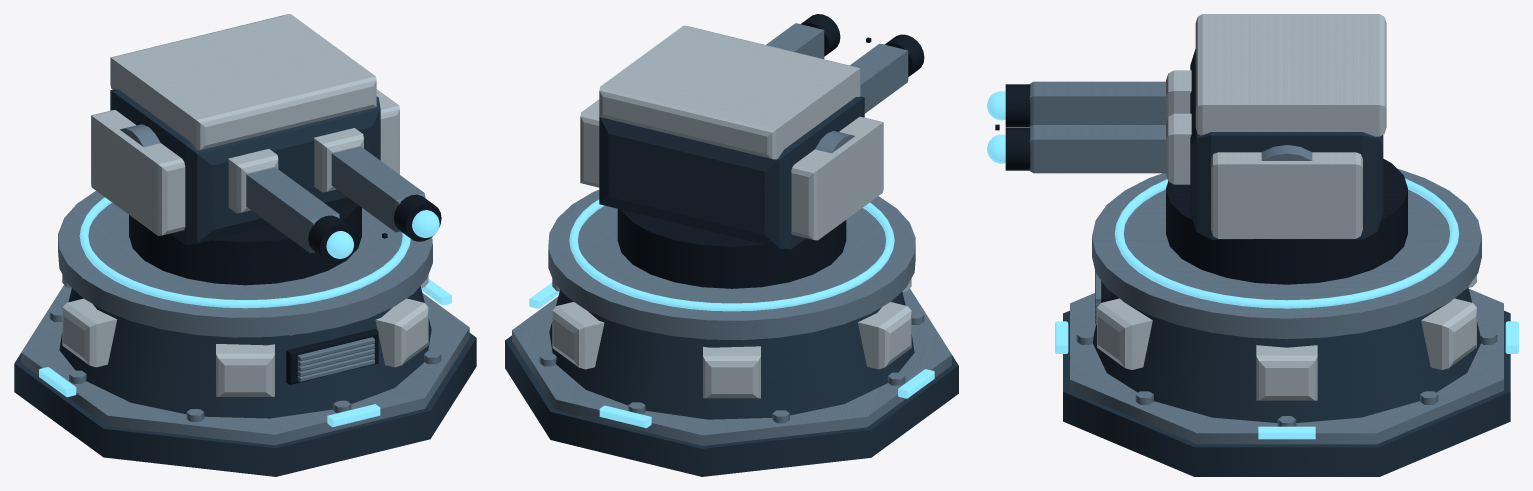
The model's file is turret.glb.
The picture shows the model from 3 angles, left to right: view 1: azimuth 30°, elevation 25°; view 2: azimuth 150°, elevation 25°; view 3: azimuth 270°, elevation 25°; orthographic projection. The views are drawn at different scales.
Parts seen in each view (by area): view 1: Brushed titanium (×3), Graphite composite (×2), Ceramic titanium armor (×3), Carbon machinery (×2), Status light (×3); view 2: Graphite composite (×2), Brushed titanium (×3), Ceramic titanium armor (×2), Carbon machinery (×2), Status light (×2); view 3: Brushed titanium (×3), Ceramic titanium armor (×3), Graphite composite (×2), Carbon machinery (×2), Status light (×3).
Part boxes in pixels (x1,y1,x2,y2): Brushed titanium (×3): (21, 124, 469, 445); Graphite composite (×2): (14, 89, 476, 476); Ceramic titanium armor (×3): (62, 14, 428, 396); Carbon machinery (×2): (129, 194, 441, 384); Status light (×3): (39, 197, 451, 427); Graphite composite (×2): (505, 96, 958, 476); Brushed titanium (×3): (512, 23, 951, 445); Ceramic titanium armor (×2): (552, 25, 911, 398); Carbon machinery (×2): (617, 14, 924, 288); Status light (×2): (529, 199, 934, 427); Brushed titanium (×3): (1029, 81, 1503, 444); Ceramic titanium armor (×3): (1097, 14, 1476, 400); Graphite composite (×2): (1063, 49, 1510, 476); Carbon machinery (×2): (1005, 84, 1407, 302); Status light (×3): (987, 91, 1518, 439).
Bounding box in the file's own units: 2.26 × 1.73 × 2.59.
Materials: 6 (5 with a texture image).
